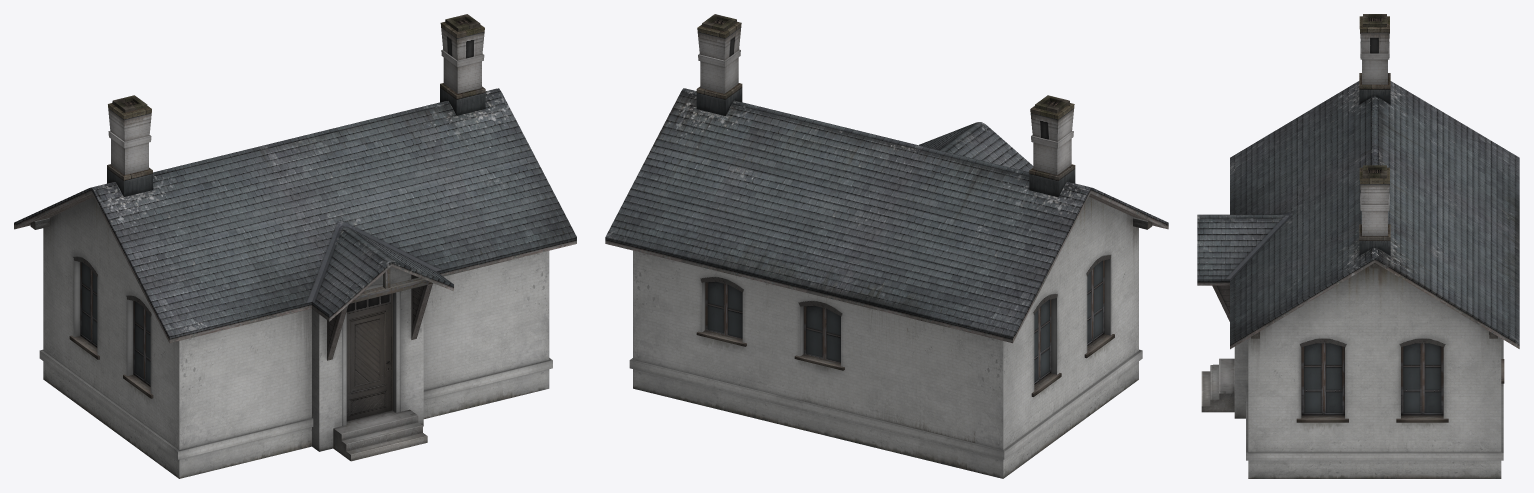
Rendered from House25.FBX.
The picture shows the model from 3 angles, left to right: view 1: azimuth 30°, elevation 25°; view 2: azimuth 150°, elevation 25°; view 3: azimuth 270°, elevation 25°; orthographic projection. The views are drawn at different scales.
Parts seen in each view (by area): view 1: House25; view 2: House25; view 3: House25.
Part boxes in pixels (left/top/right/bottom): House25: left=14, top=14, right=576, bottom=478; House25: left=605, top=14, right=1168, bottom=478; House25: left=1197, top=14, right=1519, bottom=478.
Size of the model in its own units: 662 by 487 by 500.
Materials: 1 (1 with a texture image).
